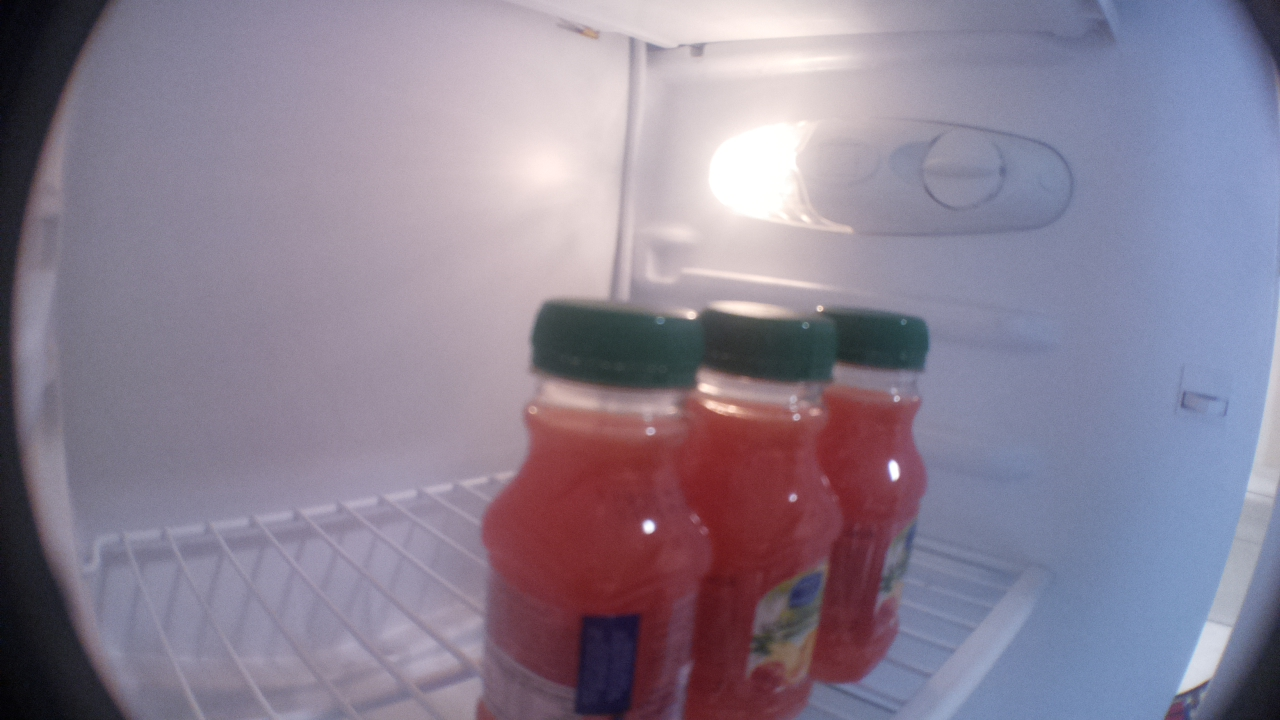juice: (472, 293, 715, 720), (706, 299, 847, 720), (815, 307, 932, 689)
